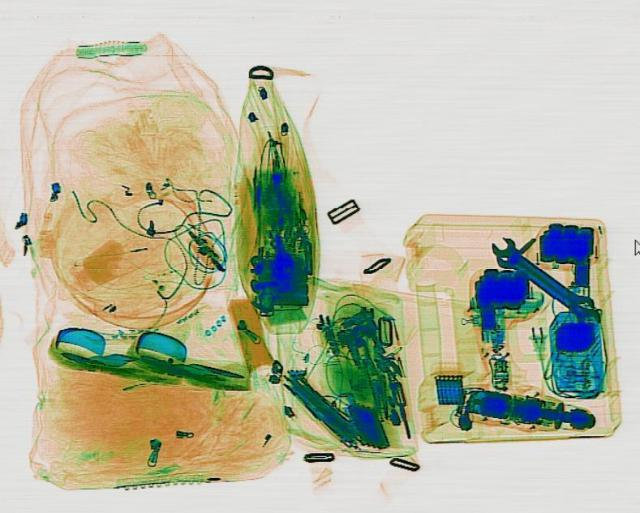Wrench: (489, 244, 608, 329), (484, 232, 600, 317)
